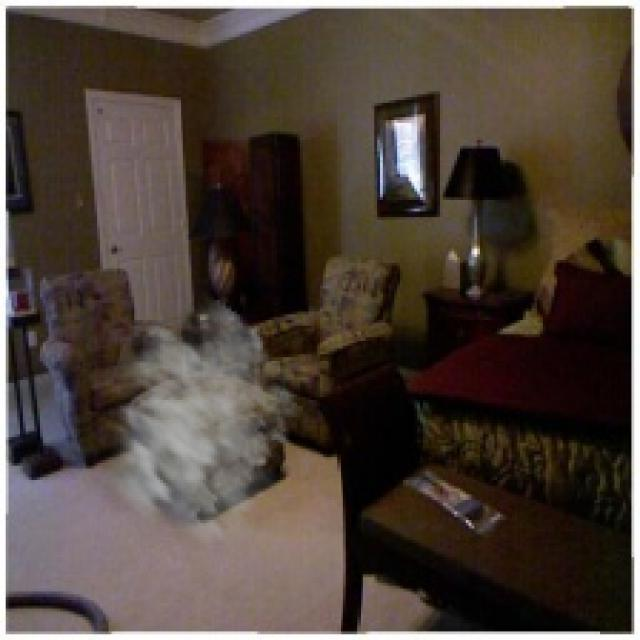Smoke: (71, 286, 306, 560)
